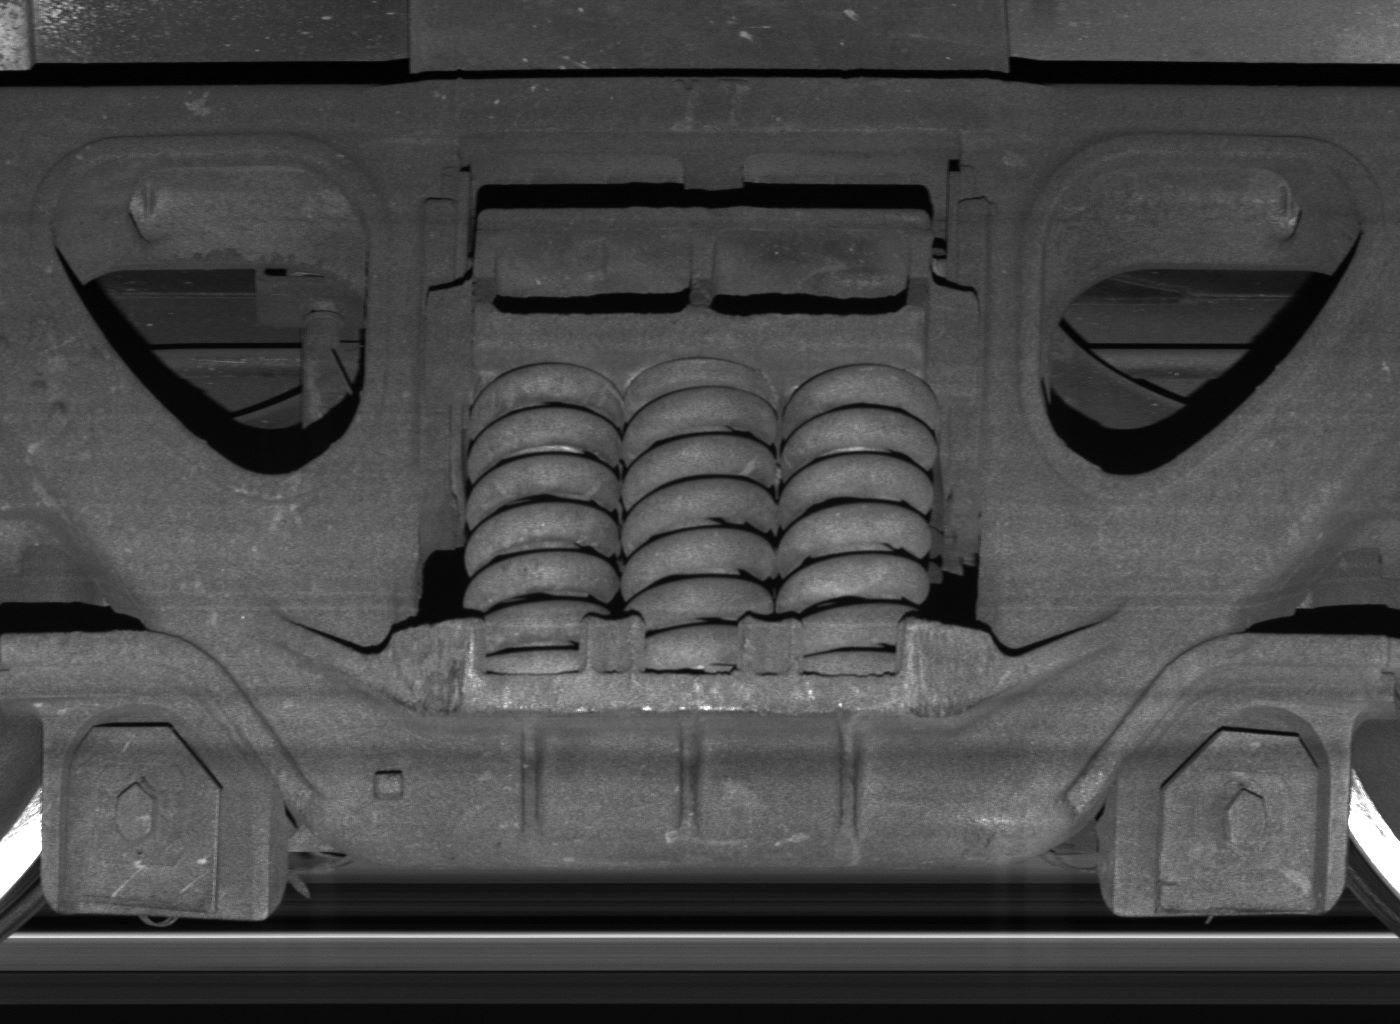normal: (41, 696, 268, 919), (1118, 695, 1346, 917)
